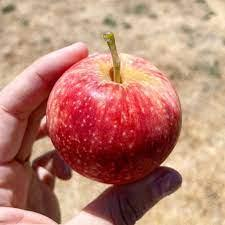Apple: (45, 29, 185, 187)
